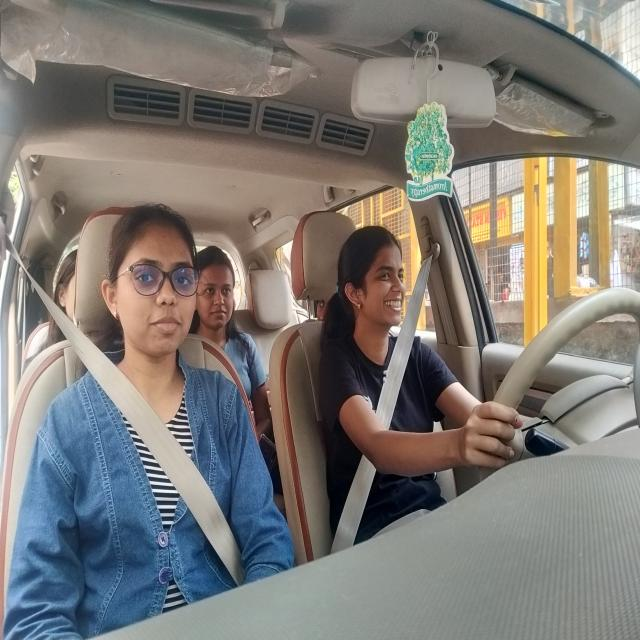person: (106, 202, 201, 372), (340, 222, 408, 345), (197, 244, 238, 336)
